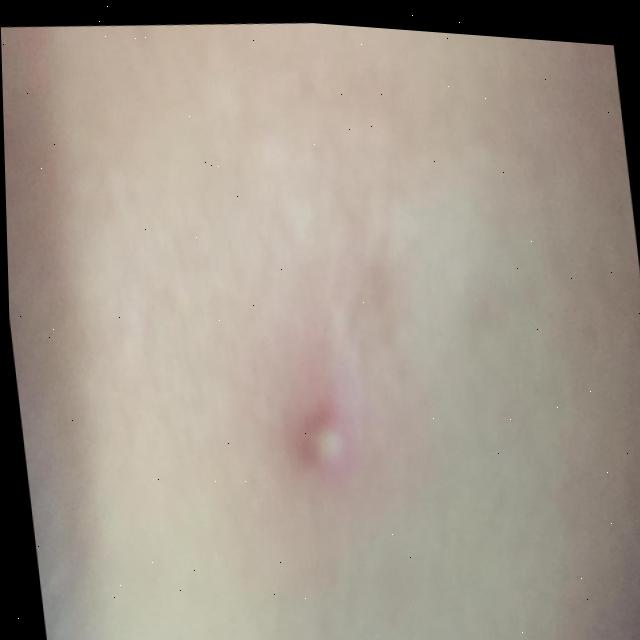Acne: (286, 388, 351, 478)
